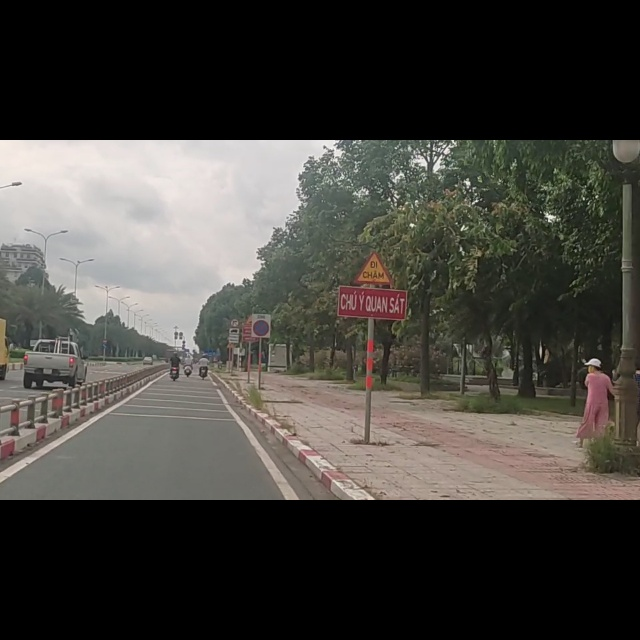bien_nguy_hiem: (352, 196, 393, 261), (250, 308, 272, 353), (227, 333, 241, 363), (229, 315, 240, 334)
